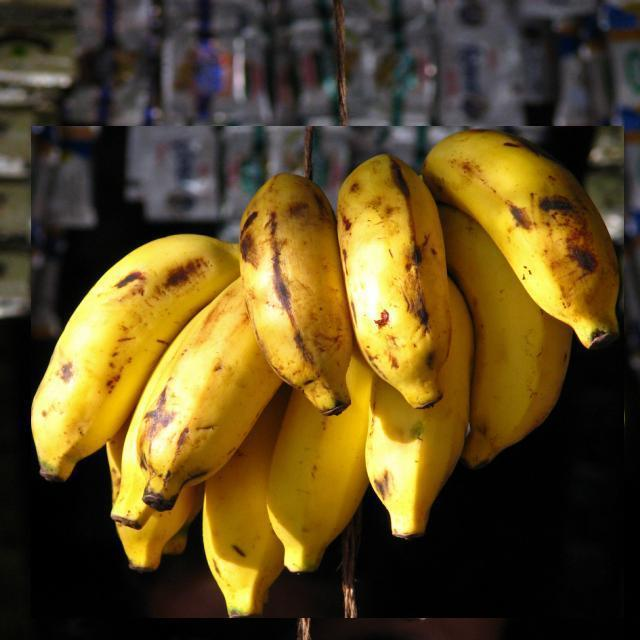Banana: (31, 126, 624, 618)
